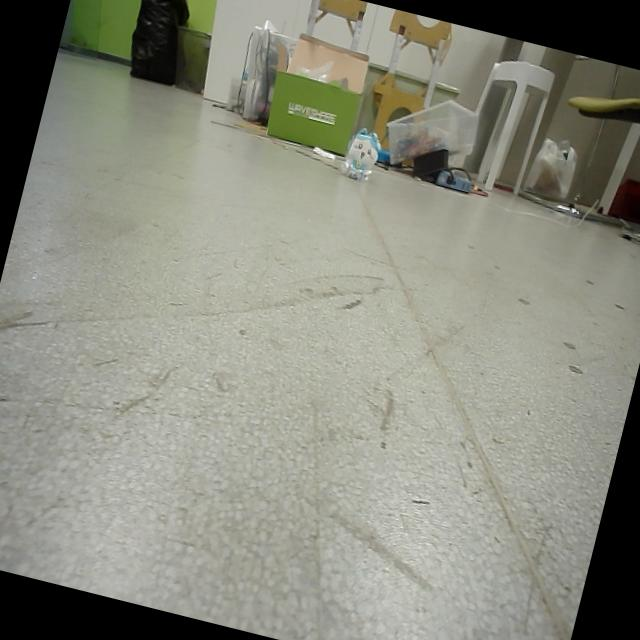xiaoba: (338, 122, 383, 188)
